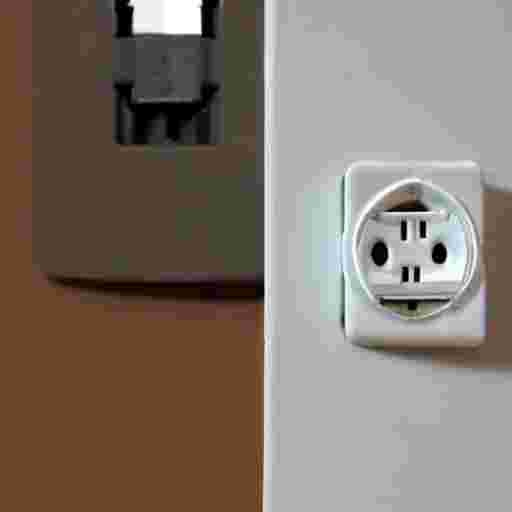power outlet: (32, 0, 261, 295), (343, 161, 484, 348), (112, 0, 223, 143)
